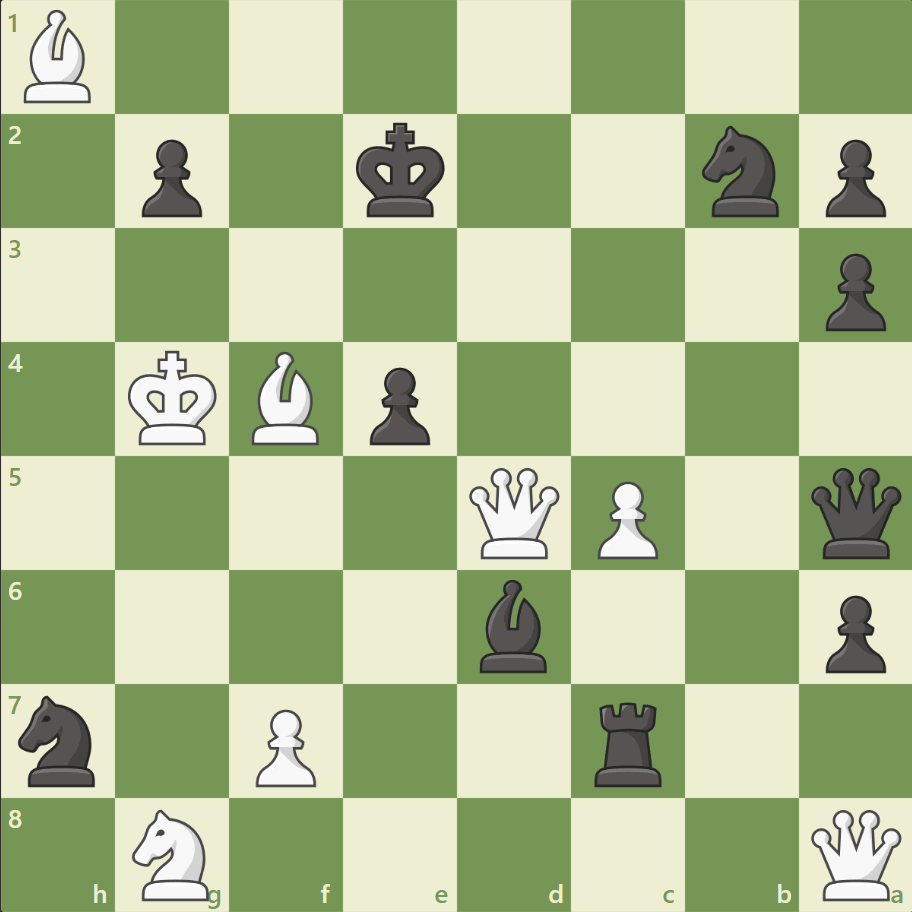B: (17, 6, 101, 109), (244, 347, 328, 449)
K: (124, 344, 224, 452)
N: (124, 802, 222, 904)
P: (247, 700, 322, 791), (588, 473, 662, 564)
Q: (805, 804, 904, 903), (464, 463, 563, 562)
b: (471, 574, 555, 676)
k: (351, 117, 451, 225)
n: (11, 688, 108, 791), (692, 121, 789, 223)
p: (133, 132, 208, 223), (815, 586, 889, 677), (361, 359, 435, 450), (815, 246, 889, 337), (815, 132, 889, 223)
q: (805, 463, 904, 562)
r: (587, 693, 670, 790)
